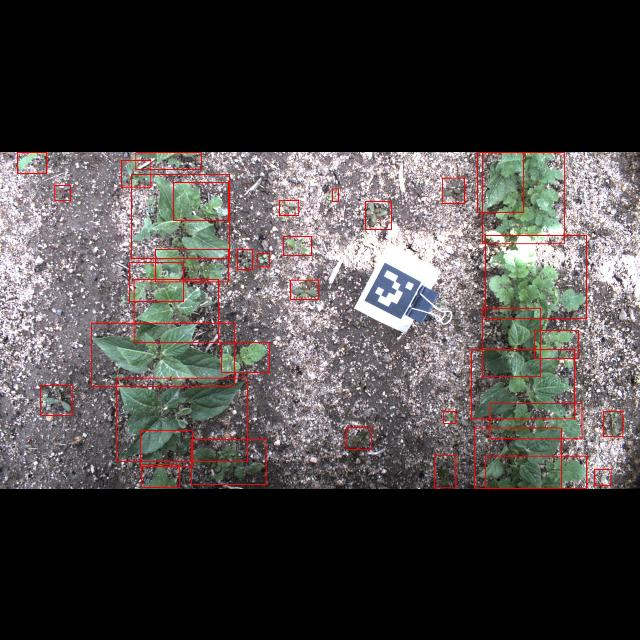crop: (116, 377, 248, 461), (92, 322, 235, 386), (130, 173, 230, 257), (471, 349, 575, 419), (134, 278, 218, 342), (474, 428, 562, 488), (482, 308, 540, 377), (477, 151, 523, 211), (135, 152, 201, 168), (141, 464, 179, 488)
weed: (486, 235, 586, 318), (482, 151, 564, 243), (490, 403, 582, 439), (192, 440, 266, 484), (486, 456, 586, 488), (155, 248, 229, 282), (128, 262, 184, 300), (174, 181, 228, 219), (140, 430, 192, 466), (221, 342, 269, 372), (534, 330, 578, 358), (40, 385, 72, 415), (121, 160, 151, 187), (434, 454, 456, 488), (365, 200, 391, 228), (282, 235, 312, 255), (346, 427, 372, 449), (18, 152, 46, 172), (290, 279, 318, 299), (442, 178, 464, 202), (603, 412, 623, 436), (238, 249, 252, 269), (279, 200, 299, 214), (55, 184, 71, 200), (595, 469, 611, 485), (258, 252, 270, 266), (444, 411, 456, 423), (332, 188, 338, 200)
